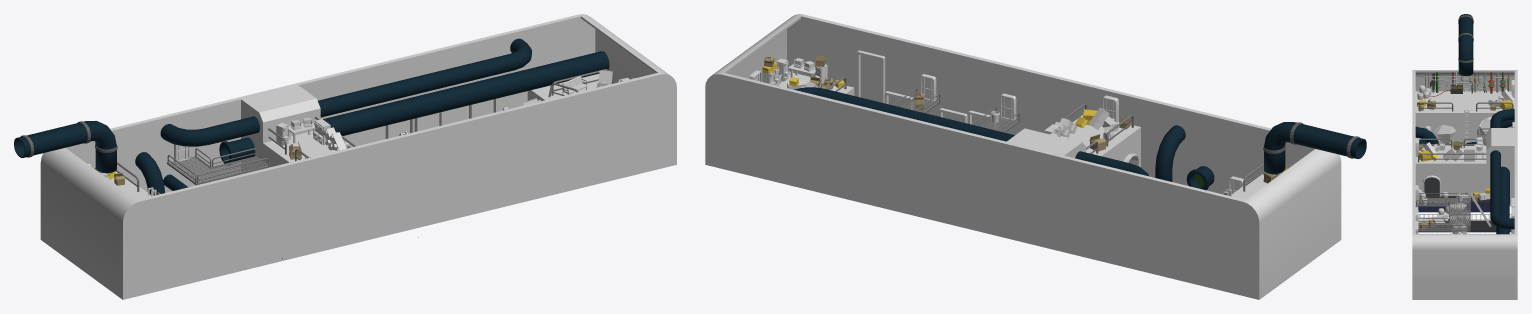
3 views of the same model, side by side, from view 1: azimuth 30°, elevation 25°; view 2: azimuth 150°, elevation 25°; view 3: azimuth 270°, elevation 25° (orthographic). The views are drawn at different scales.
Visible parts, largest first — view 1: R1 Wall, Pipe .017, Pipe .018, R1A2 Platform, IN_Pipe.002, Cube.104, Cube.086, Pipe .024, Cube.082, Cube.105; view 2: R1 Wall, IN_Pipe.002, R1A2 Platform, Pipe .018, Pipe .026, Cube.086, Cube.162, Cube.100, Pipe .001; view 3: R1 Wall, R1A2 Platform, Cube.081, Cube.082, Pipe .018, IN_Pipe.002, Cube.087, Pipe .017, Cube.134, Cube.086, Cube.127, Cube.128 (+21 smaller).
Part boxes in pixels (left/top/right/bottom): R1 Wall: left=40, top=14, right=676, bottom=299; Pipe .017: left=219, top=51, right=609, bottom=165; Pipe .018: left=160, top=38, right=531, bottom=146; R1A2 Platform: left=241, top=85, right=334, bottom=171; IN_Pipe.002: left=14, top=121, right=117, bottom=173; Cube.104: left=169, top=156, right=268, bottom=182; Cube.086: left=276, top=119, right=346, bottom=151; Pipe .024: left=135, top=152, right=164, bottom=195; Cube.082: left=527, top=73, right=599, bottom=101; Cube.105: left=167, top=156, right=270, bottom=185; R1 Wall: left=705, top=14, right=1341, bottom=299; IN_Pipe.002: left=1263, top=122, right=1366, bottom=174; R1A2 Platform: left=1007, top=115, right=1140, bottom=167; Pipe .018: left=794, top=87, right=1148, bottom=176; Pipe .026: left=1155, top=125, right=1185, bottom=181; Cube.086: left=1044, top=107, right=1118, bottom=142; Cube.162: left=773, top=58, right=827, bottom=87; Cube.100: left=856, top=50, right=885, bottom=103; Pipe .001: left=1186, top=166, right=1214, bottom=190; R1 Wall: left=1412, top=70, right=1517, bottom=299; R1A2 Platform: left=1415, top=128, right=1514, bottom=206; Cube.081: left=1415, top=91, right=1514, bottom=145; Cube.082: left=1413, top=277, right=1514, bottom=299; Pipe .018: left=1490, top=109, right=1514, bottom=229; IN_Pipe.002: left=1458, top=14, right=1473, bottom=75; Cube.087: left=1418, top=177, right=1490, bottom=212; Pipe .017: left=1496, top=166, right=1509, bottom=234; Cube.134: left=1418, top=220, right=1511, bottom=232; Cube.086: left=1421, top=137, right=1482, bottom=161; Cube.127: left=1417, top=198, right=1469, bottom=213; Cube.128: left=1418, top=214, right=1469, bottom=229.
Size of the model in its own units: 16875 by 3896 by 4534.
